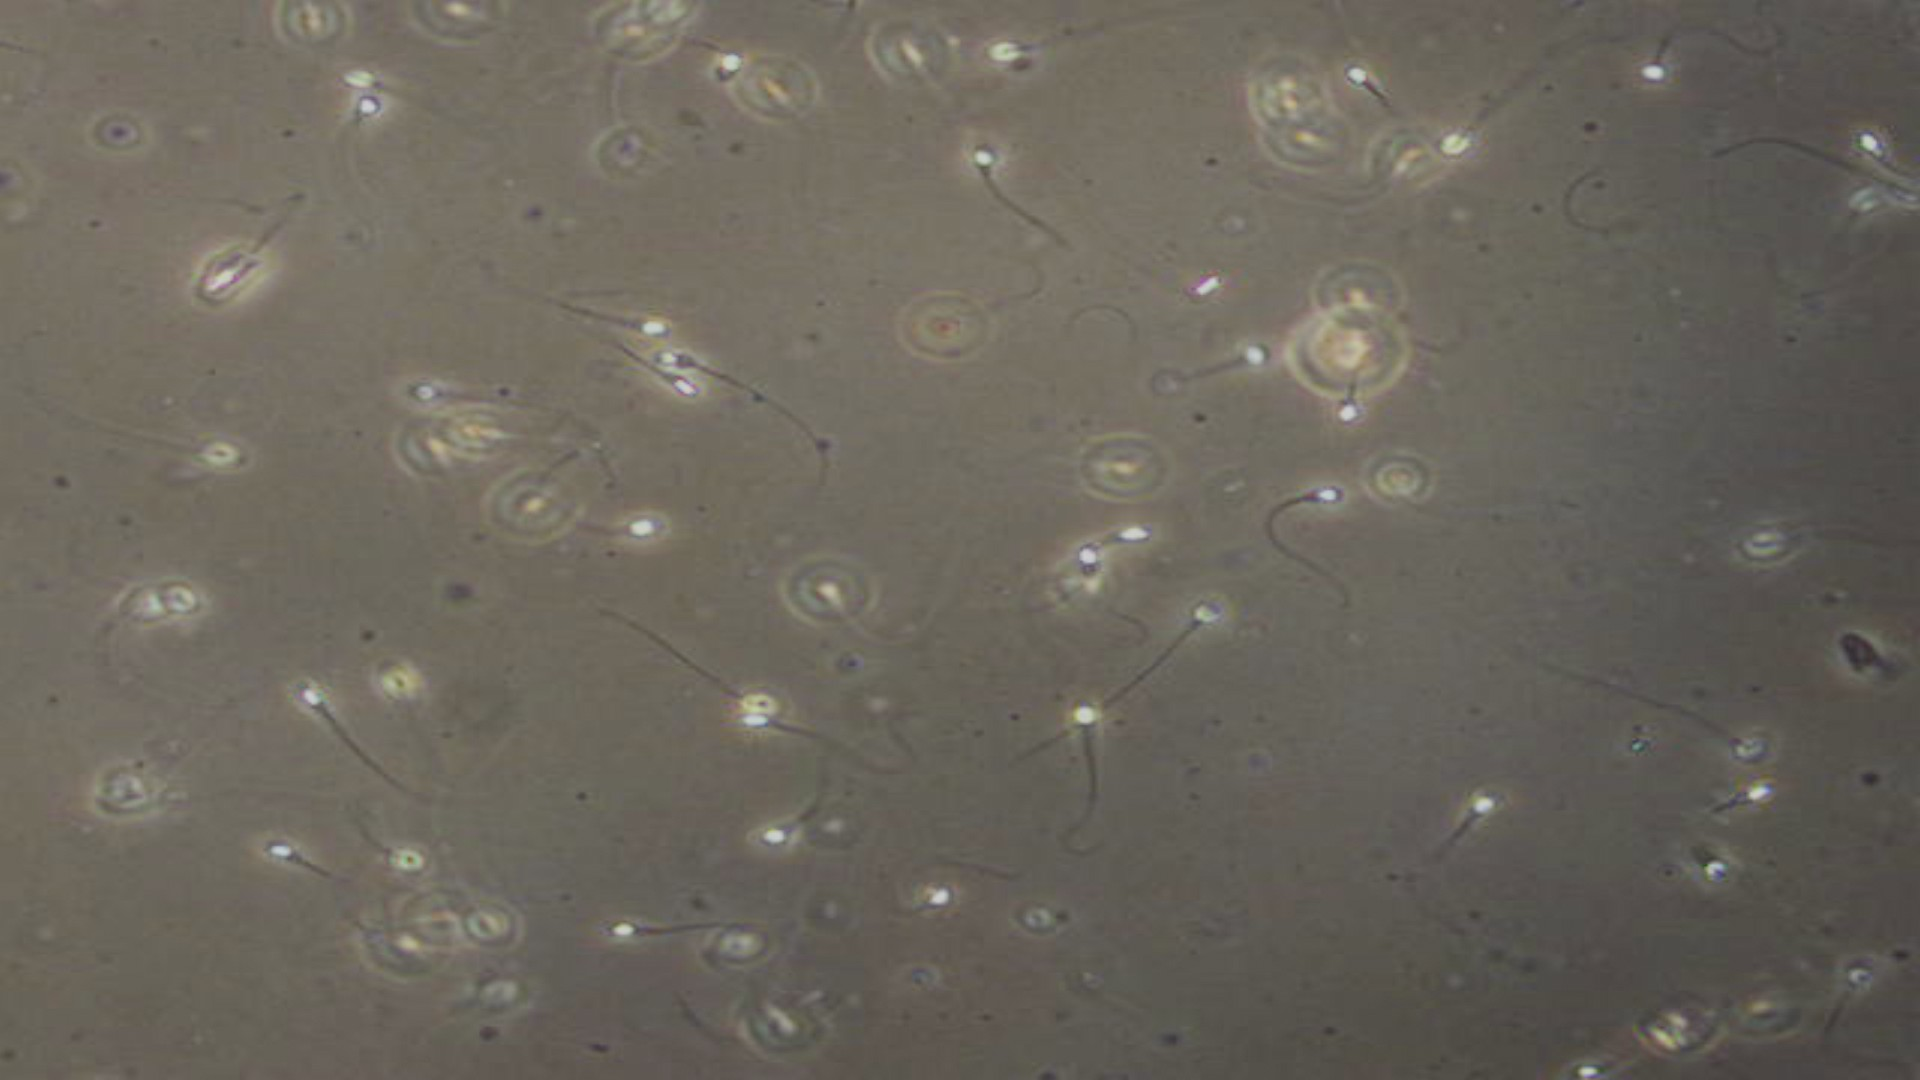sperm: (258, 824, 427, 932), (185, 232, 349, 332), (717, 778, 886, 874), (1047, 691, 1160, 832), (1335, 55, 1501, 146), (404, 368, 578, 448), (1596, 673, 1760, 754), (1244, 475, 1365, 585), (282, 665, 377, 785), (964, 132, 1064, 222), (327, 100, 418, 193), (1064, 514, 1175, 588), (649, 339, 764, 410), (588, 895, 713, 957), (1139, 585, 1228, 673), (595, 331, 700, 404), (1613, 40, 1714, 109), (535, 287, 679, 335), (554, 491, 674, 546), (1040, 531, 1106, 620), (1432, 796, 1506, 873), (1815, 957, 1882, 1039), (866, 866, 971, 918), (1171, 343, 1286, 382), (1702, 781, 1789, 806)
